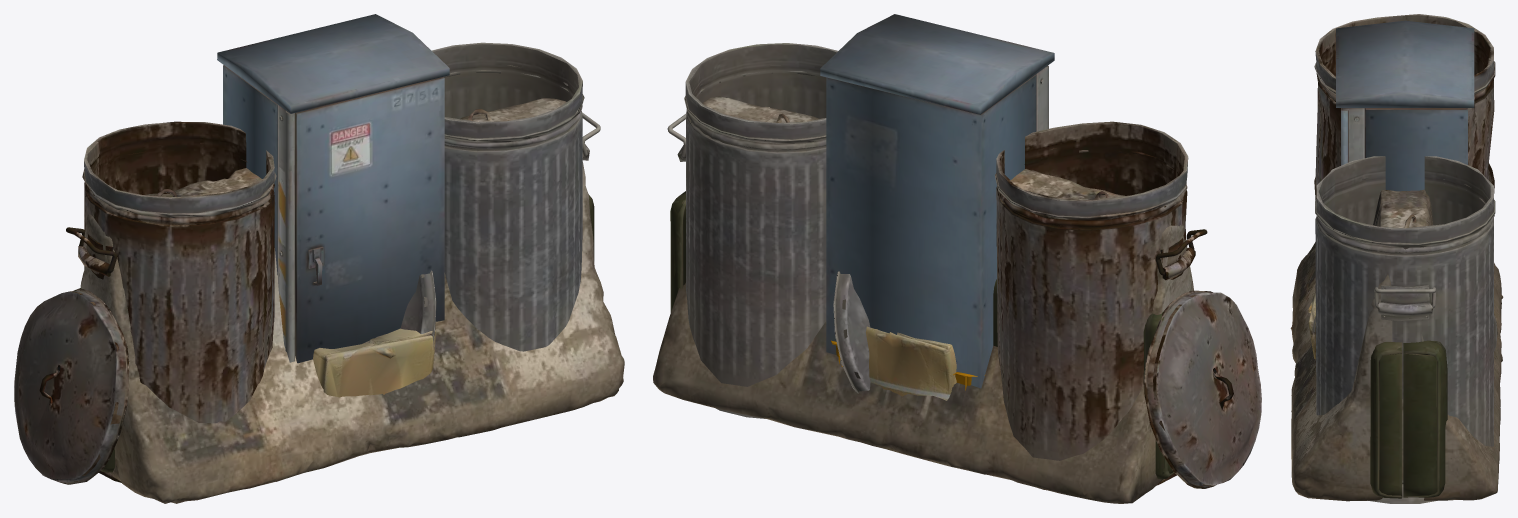
Rendered from arena-skyport-props-v1.glb.
3 renders of one model, left to right at view 1: azimuth 30°, elevation 25°; view 2: azimuth 150°, elevation 25°; view 3: azimuth 270°, elevation 25°, orthographic. The views are drawn at different scales.
Parts seen in each view (by area): view 1: utility_box_01, concrete_road_barrier, metal_trash_can/metal_trash_can_rust, metal_trash_can/metal_trash_can, metal_trash_can/metal_trash_can_rust_lid, cardboard_box_01, metal_trash_can/metal_trash_can_lid; view 2: utility_box_01, metal_trash_can/metal_trash_can_rust, metal_trash_can/metal_trash_can, concrete_road_barrier, metal_trash_can/metal_trash_can_rust_lid, cardboard_box_01, metal_trash_can/metal_trash_can_lid, vintage_suitcase/vintage_suitcase_01_bottom, vintage_suitcase/vintage_suitcase_02_bottom; view 3: metal_trash_can/metal_trash_can, concrete_road_barrier, utility_box_01, metal_trash_can/metal_trash_can_rust, vintage_suitcase/vintage_suitcase_01_bottom, vintage_suitcase/vintage_suitcase_01_top, metal_trash_can/metal_trash_can_handle_right, cardboard_box_01.
Part boxes in pixels (x1,y1,x2,y2): utility_box_01: (217, 14, 449, 363); concrete_road_barrier: (80, 98, 624, 503); metal_trash_can/metal_trash_can_rust: (78, 121, 276, 482); metal_trash_can/metal_trash_can: (431, 42, 589, 351); metal_trash_can/metal_trash_can_rust_lid: (14, 288, 129, 484); cardboard_box_01: (313, 328, 435, 397); metal_trash_can/metal_trash_can_lid: (400, 270, 436, 340); utility_box_01: (820, 14, 1054, 388); metal_trash_can/metal_trash_can_rust: (995, 121, 1195, 490); metal_trash_can/metal_trash_can: (677, 43, 837, 418); concrete_road_barrier: (653, 96, 1193, 503); metal_trash_can/metal_trash_can_rust_lid: (1144, 290, 1261, 488); cardboard_box_01: (865, 326, 956, 400); metal_trash_can/metal_trash_can_lid: (833, 271, 870, 393); vintage_suitcase/vintage_suitcase_01_bottom: (670, 191, 685, 312); vintage_suitcase/vintage_suitcase_02_bottom: (993, 279, 1174, 479); metal_trash_can/metal_trash_can: (1315, 156, 1496, 503); concrete_road_barrier: (1290, 189, 1503, 501); utility_box_01: (1336, 20, 1474, 191); metal_trash_can/metal_trash_can_rust: (1314, 14, 1495, 273); vintage_suitcase/vintage_suitcase_01_bottom: (1403, 340, 1447, 497); vintage_suitcase/vintage_suitcase_01_top: (1370, 342, 1402, 498); metal_trash_can/metal_trash_can_handle_right: (1374, 287, 1436, 308); cardboard_box_01: (1308, 285, 1315, 359).
Bounding box in the file's own units: 1.78 × 1.13 × 0.6387.
Materials: 9 (9 with a texture image).
